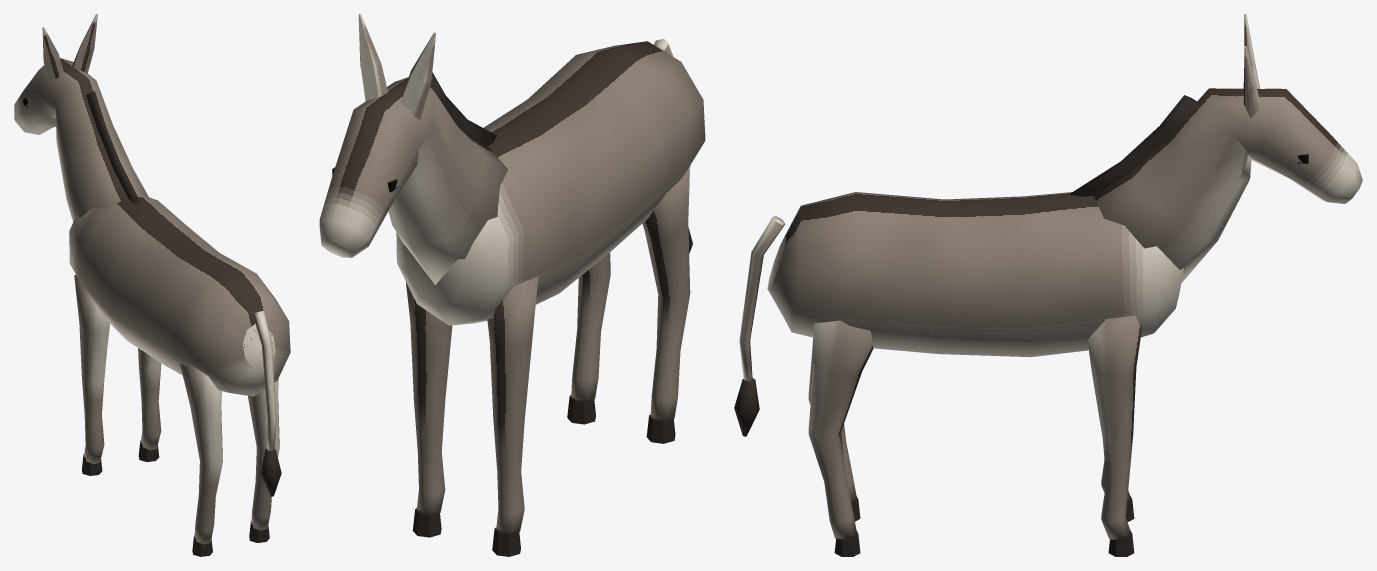
File: donkey_grey.glb
The picture shows the model from 3 angles, left to right: view 1: azimuth 30°, elevation 25°; view 2: azimuth 150°, elevation 25°; view 3: azimuth 270°, elevation 25°; orthographic projection. The views are drawn at different scales.
Parts seen in each view (by area): view 1: Body, Leg_HL, Leg_FL, Hair, Leg_HR, Leg_FR; view 2: Body, Leg_FL, Leg_HL, Leg_FR, Leg_HR, Hair; view 3: Body, Leg_HR, Leg_FR, Hair, Leg_HL.
Boxes of the visible parts, <box> form: Body: <box>14,14,290,396</box>; Leg_HL: <box>180,363,222,556</box>; Leg_FL: <box>74,274,109,475</box>; Hair: <box>86,91,281,496</box>; Leg_HR: <box>248,378,279,542</box>; Leg_FR: <box>138,348,161,461</box>; Body: <box>319,14,705,325</box>; Leg_FL: <box>487,276,538,556</box>; Leg_HL: <box>642,166,690,443</box>; Leg_FR: <box>406,282,452,537</box>; Leg_HR: <box>567,252,610,424</box>; Hair: <box>430,39,692,253</box>; Body: <box>767,14,1362,357</box>; Leg_HR: <box>808,320,873,556</box>; Leg_FR: <box>1087,315,1141,556</box>; Hair: <box>734,95,1197,436</box>; Leg_HL: <box>808,337,860,521</box>.
Size of the model in its own units: 0.4585 by 1.87 by 2.12.
Materials: 5 (2 with a texture image).
